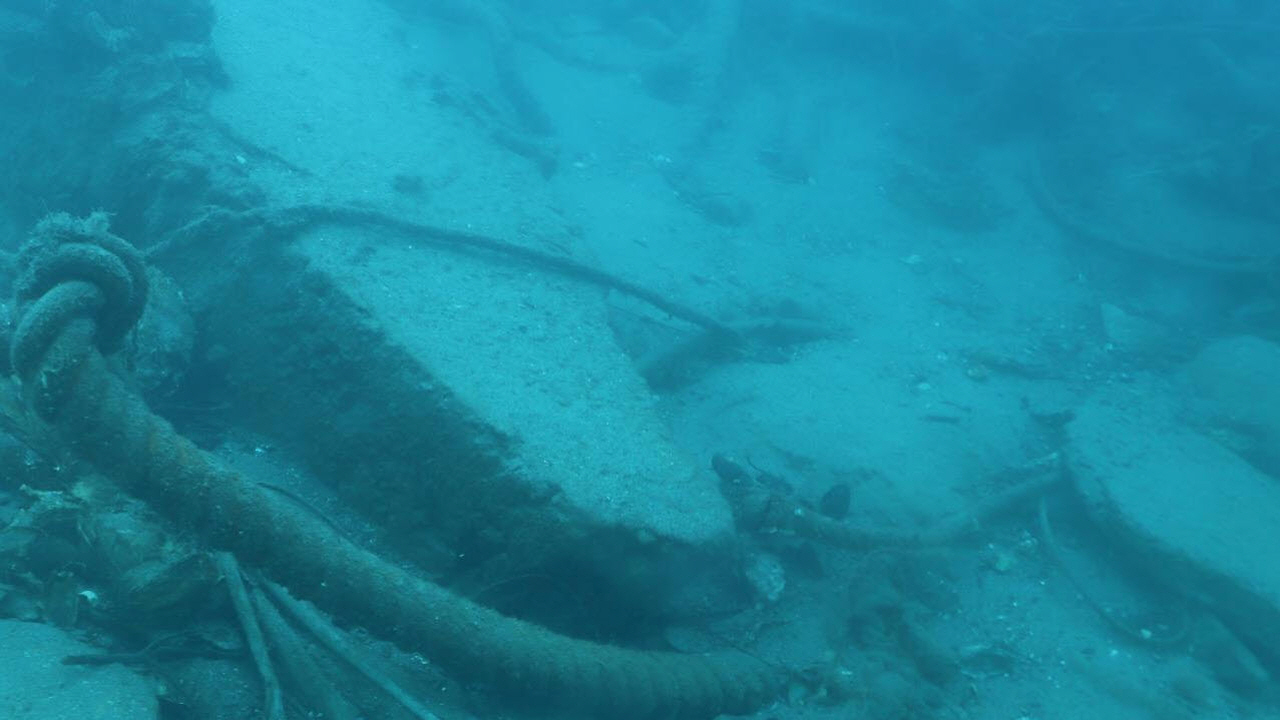rope: (0, 197, 784, 720), (143, 203, 779, 359), (736, 453, 1062, 565)
